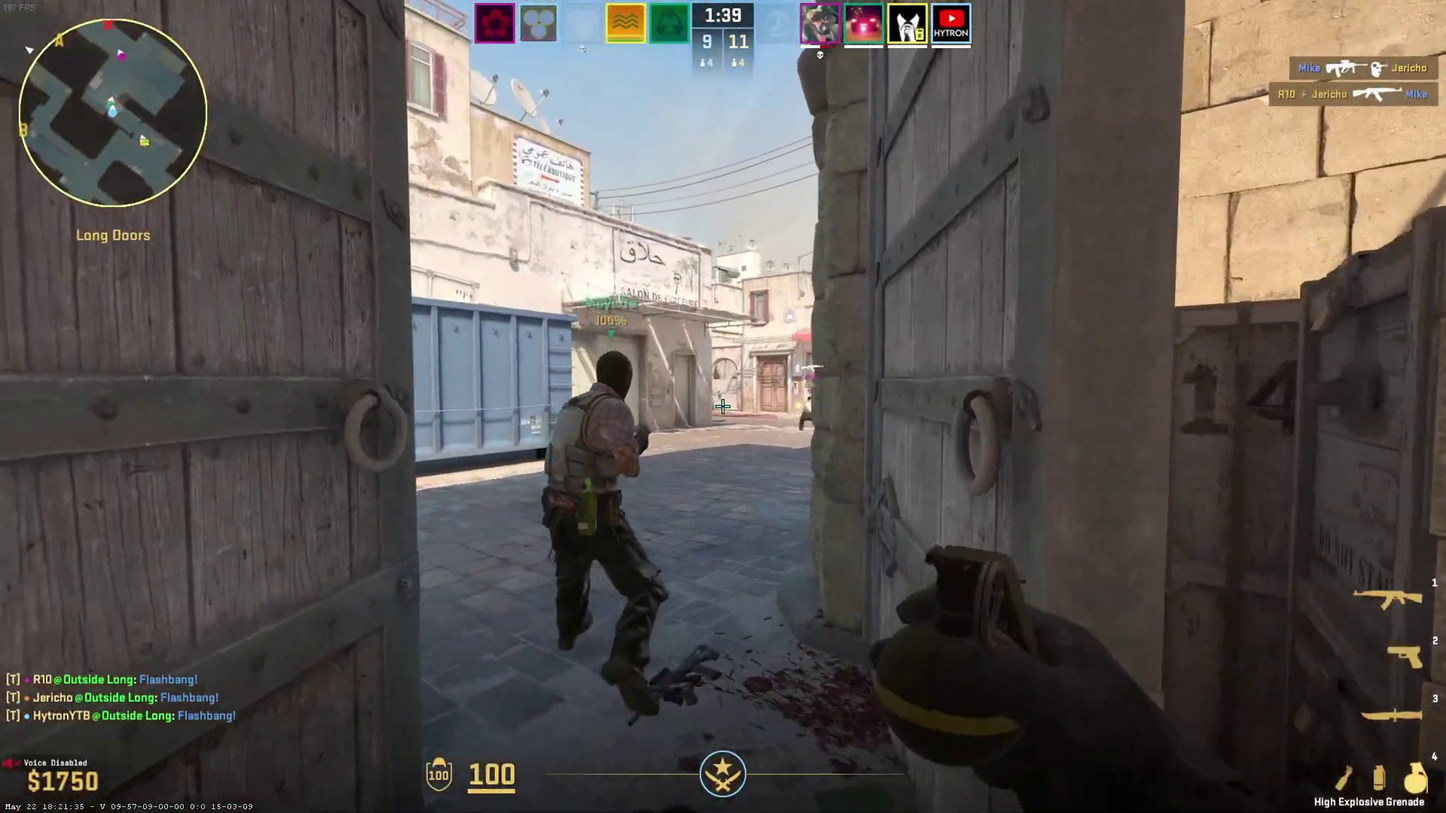Terrorist: (552, 352, 661, 713), (798, 396, 813, 431)
